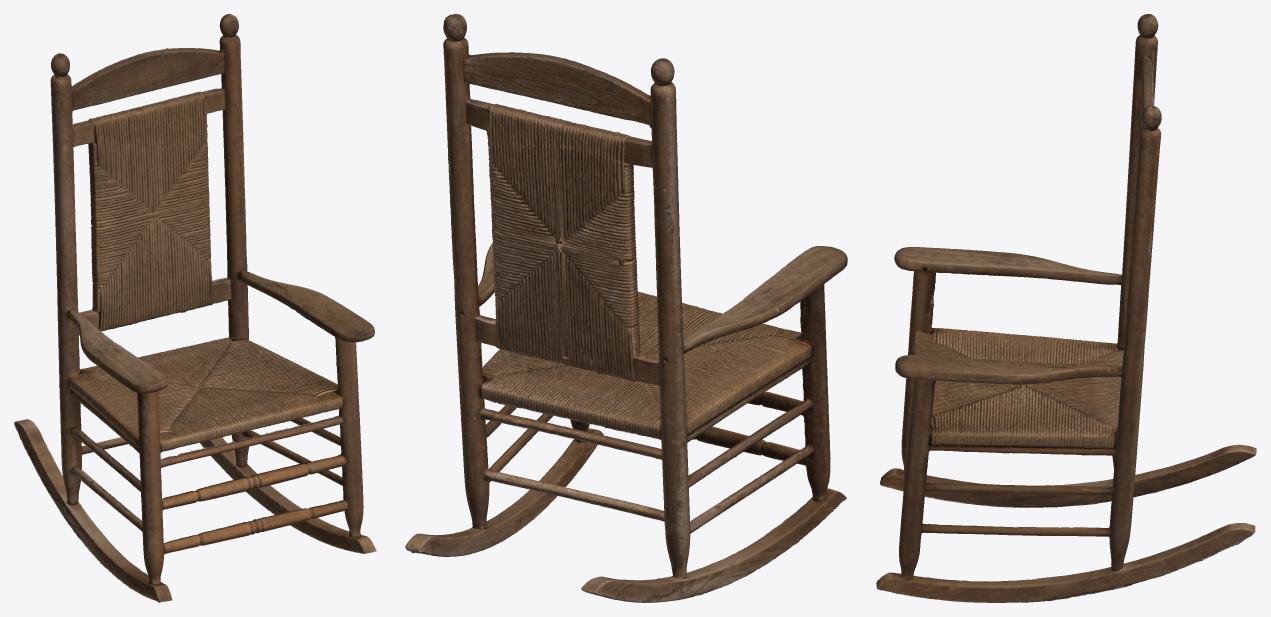
File: obj_weathered_rocking_chair_400b2f.glb
The picture shows the model from 3 angles, left to right: view 1: azimuth 30°, elevation 25°; view 2: azimuth 150°, elevation 25°; view 3: azimuth 270°, elevation 25°; orthographic projection. The views are drawn at different scales.
Parts seen in each view (by area): view 1: obj_weathered_rocking_chair_400b2f; view 2: obj_weathered_rocking_chair_400b2f; view 3: obj_weathered_rocking_chair_400b2f.
Part boxes in pixels (x1,y1,x2,y2): obj_weathered_rocking_chair_400b2f: (14, 14, 376, 602); obj_weathered_rocking_chair_400b2f: (405, 14, 847, 602); obj_weathered_rocking_chair_400b2f: (876, 14, 1256, 602).
Bounding box in the file's own units: 0.5443 × 1 × 0.6964.
Materials: 1 (1 with a texture image).
